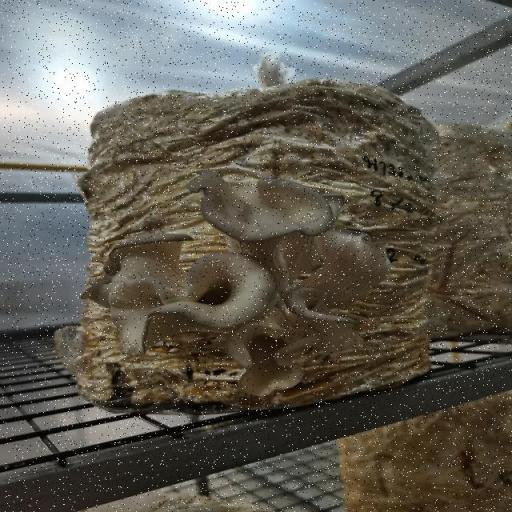White Oyster Mushroom: (93, 163, 382, 399)
